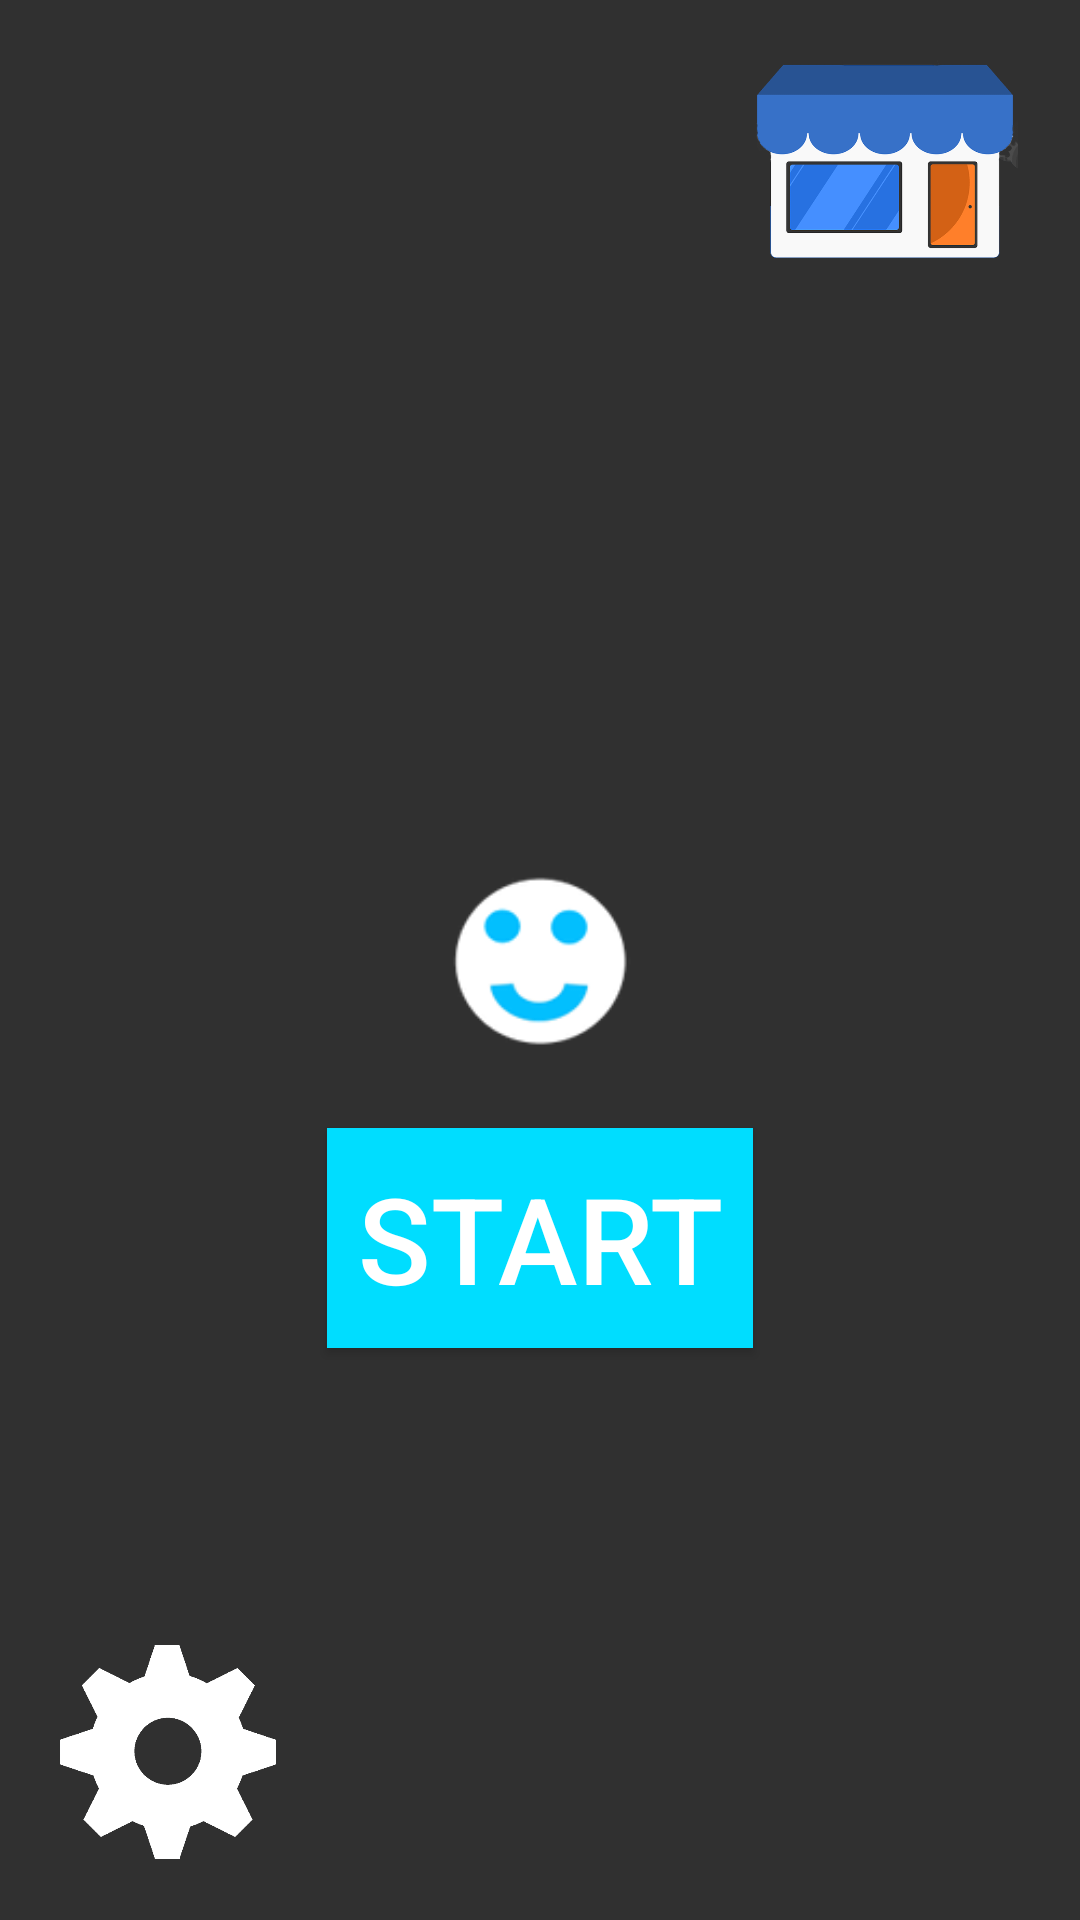

Locate icon controls on the screen. Image size 1080px×1920px, boxes as (x1, y1, x2, y2).
shop: (757, 65, 1018, 258)
